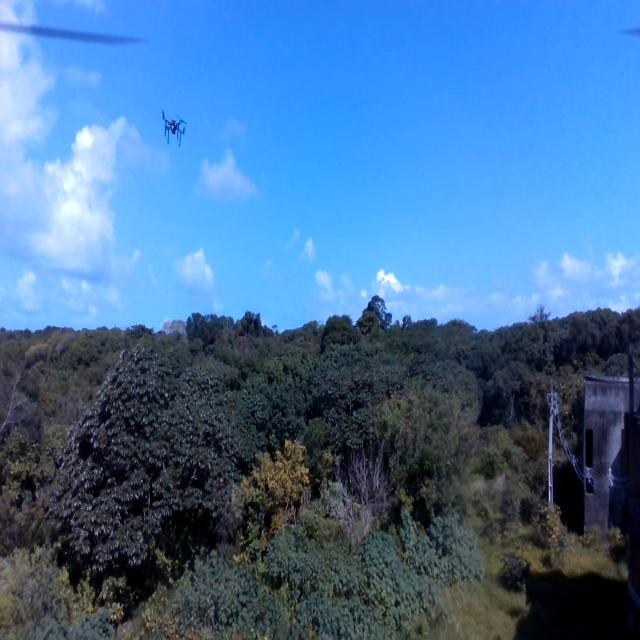-uav-: (157, 102, 196, 164)
